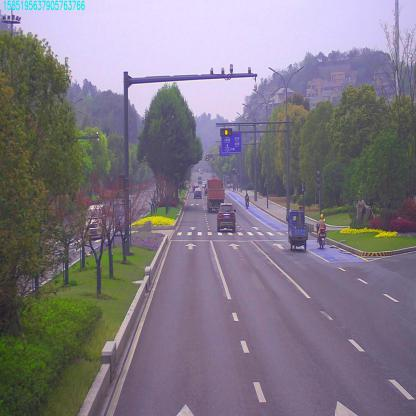traffic-light: (220, 126, 232, 136)
